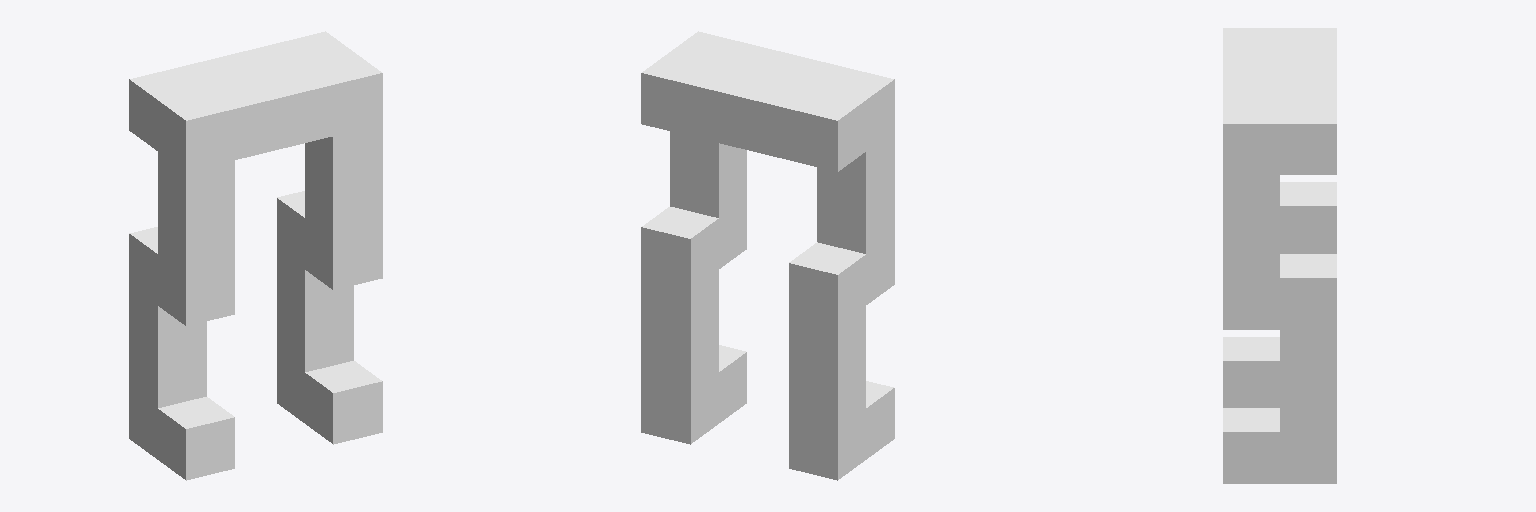
The model's file is legs_middle_002.obj.
The picture shows the model from 3 angles: view 1: azimuth 30°, elevation 25°; view 2: azimuth 150°, elevation 25°; view 3: azimuth 270°, elevation 25°; orthographic projection.
Size of the model in its own units: 4 by 7 by 2.